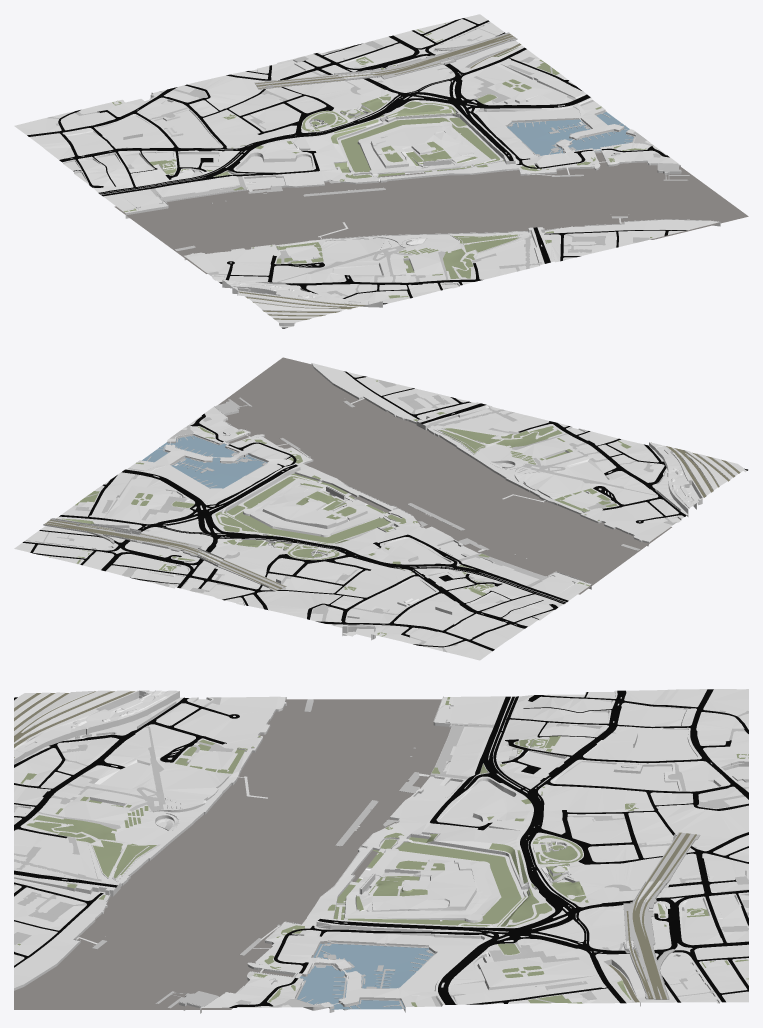
The model's file is TQ3380_Terrain_LOD_1_draco.glb.
3 renders of one model, top to bottom at view 1: azimuth 30°, elevation 25°; view 2: azimuth 150°, elevation 25°; view 3: azimuth 270°, elevation 25°, orthographic. The views are drawn at different scales.
Visible parts, largest first — view 1: TQ3380_Terrain; view 2: TQ3380_Terrain; view 3: TQ3380_Terrain.
Boxes of the visible parts, x1,y1,x2,y2 form: TQ3380_Terrain: (14, 14, 748, 328); TQ3380_Terrain: (14, 357, 748, 660); TQ3380_Terrain: (14, 689, 748, 1013).
Bounding box in the file's own units: 1000 × 32.72 × 1000.
1 material, 1 textured.
